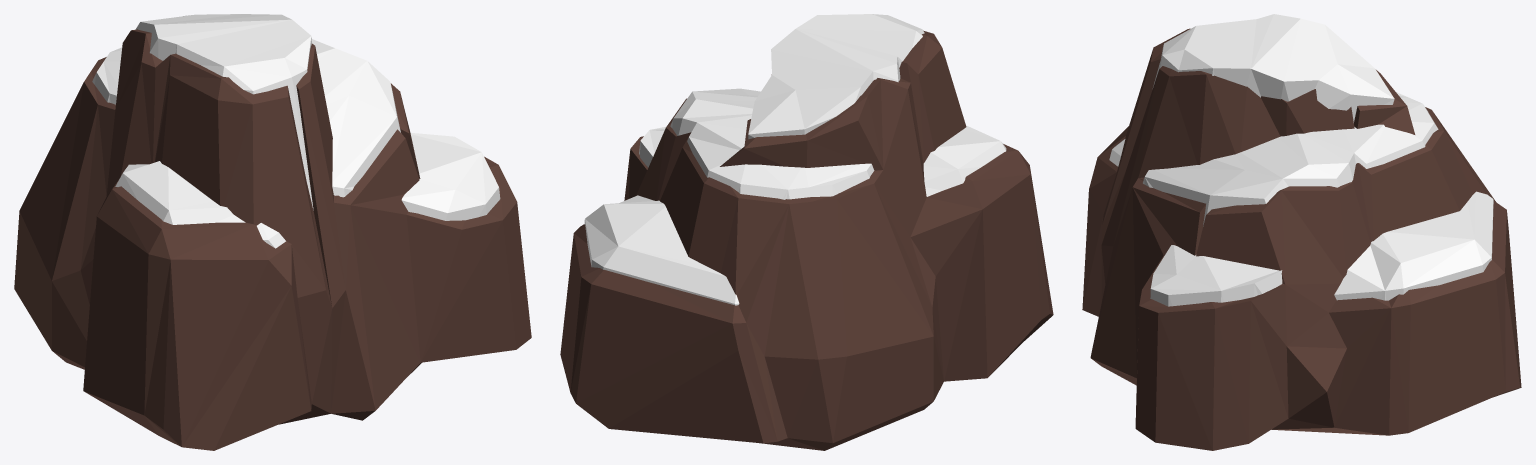
File: snow_rock_022.fbx
3 views of the same model, side by side, from view 1: azimuth 30°, elevation 25°; view 2: azimuth 150°, elevation 25°; view 3: azimuth 270°, elevation 25° (orthographic). The views are drawn at different scales.
Visible parts, largest first — view 1: snow_rock_022; view 2: snow_rock_022; view 3: snow_rock_022.
Boxes of the visible parts, bbox=[...] form: snow_rock_022: bbox=[14, 14, 531, 450]; snow_rock_022: bbox=[560, 14, 1053, 450]; snow_rock_022: bbox=[1082, 14, 1521, 450].
Bounding box in the file's own units: 1218 × 1255 × 962.
